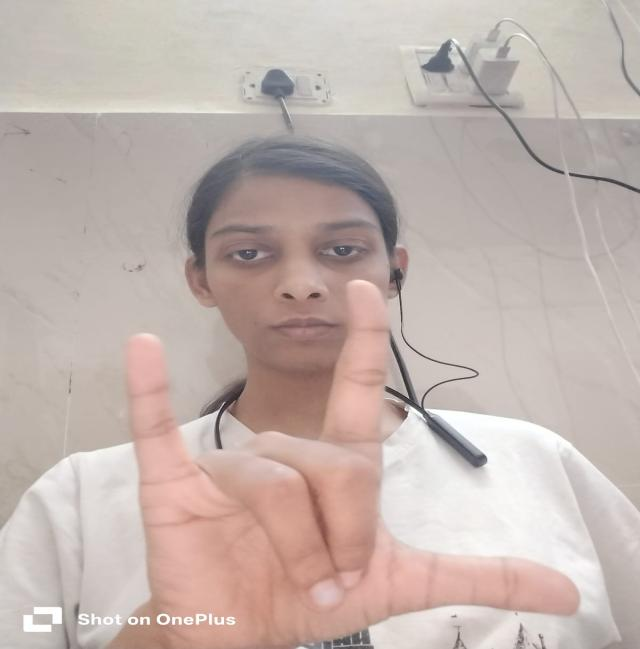I Love You: (106, 266, 586, 645)
